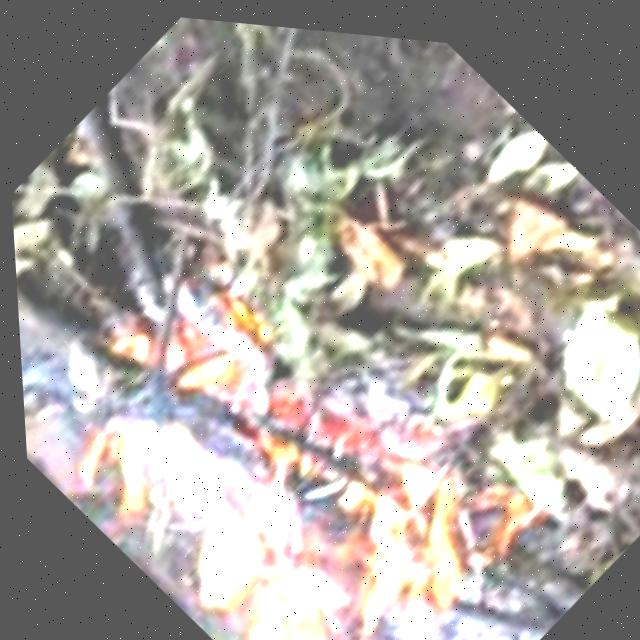Fire: (30, 265, 506, 640)
